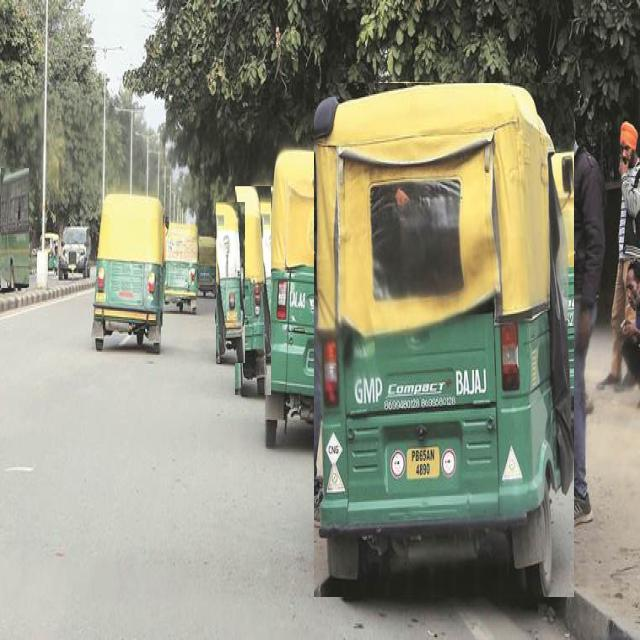autorickshaw: (314, 83, 574, 597), (264, 148, 336, 446), (92, 196, 165, 352), (235, 186, 271, 395), (216, 203, 244, 363), (165, 223, 199, 313), (198, 236, 218, 297)
bus: (0, 168, 29, 288)
car: (59, 225, 90, 279)
